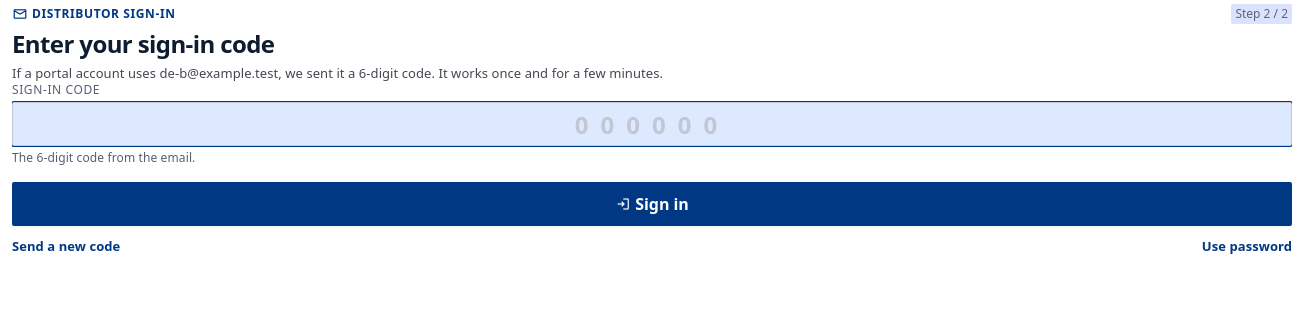
Scenario: PortalCode (SC-27 code step) › sends one new code per click while a request is in flight
The width and height of the screenshot is (1304, 331).
Double-click the button "Send a new code" at (66, 246), box [12,230,120,262]
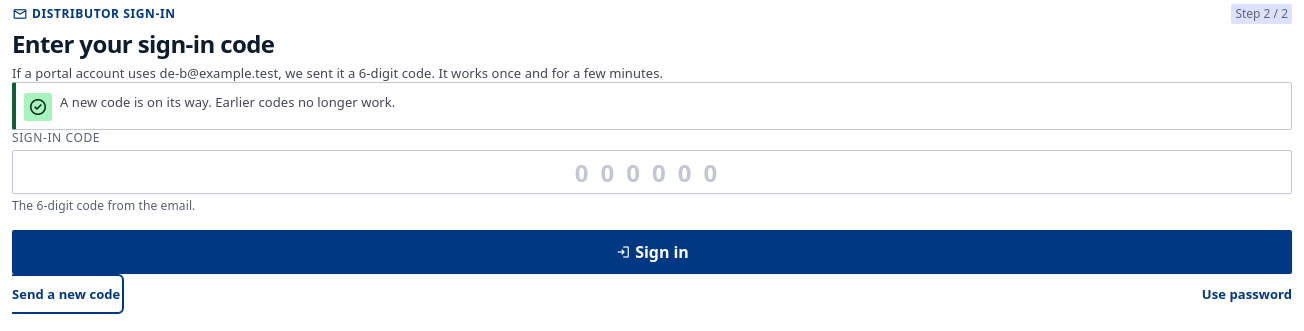
Check: the text "A new code is on its way. Earlier codes no longer work." is shown, box [60,93,395,111]
